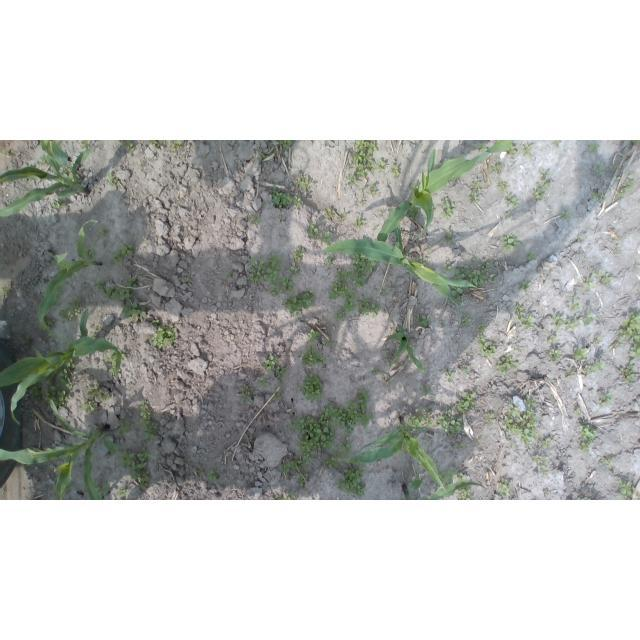Maize: (375, 141, 512, 244), (1, 309, 122, 425), (0, 398, 120, 500), (323, 238, 477, 303), (37, 221, 99, 339), (342, 418, 445, 488), (0, 140, 90, 217), (386, 324, 425, 373), (402, 480, 486, 501)
Weeds: (291, 415, 337, 464), (502, 405, 540, 452), (43, 357, 75, 411), (347, 141, 377, 192), (119, 447, 151, 490), (345, 388, 374, 435), (352, 253, 377, 288), (285, 289, 317, 316), (336, 468, 365, 497), (105, 278, 138, 301), (436, 410, 463, 437), (140, 400, 158, 440), (328, 269, 352, 299), (300, 374, 324, 403), (616, 310, 640, 338), (152, 324, 177, 349), (406, 408, 432, 431), (300, 347, 328, 368), (111, 244, 134, 267), (440, 468, 469, 486), (265, 253, 281, 285), (496, 352, 517, 376), (272, 185, 293, 209), (325, 405, 346, 428), (248, 255, 265, 283), (60, 299, 81, 321), (455, 393, 477, 414), (121, 303, 145, 322), (106, 350, 125, 373), (357, 299, 380, 318), (295, 173, 315, 194), (88, 385, 109, 404), (617, 480, 636, 501), (532, 180, 551, 201), (477, 337, 496, 357), (621, 360, 638, 382), (449, 285, 465, 308), (281, 460, 307, 474), (577, 425, 597, 443), (503, 236, 524, 253), (440, 200, 456, 221), (469, 269, 487, 287), (326, 452, 345, 469), (596, 269, 615, 286), (468, 180, 481, 204), (618, 180, 637, 196), (496, 478, 512, 496), (240, 387, 255, 406), (275, 364, 287, 387), (62, 162, 75, 183), (520, 314, 537, 330), (504, 193, 521, 209), (280, 276, 295, 294), (307, 221, 322, 239), (586, 360, 605, 374), (120, 140, 135, 156), (455, 264, 469, 281), (264, 353, 277, 371), (629, 336, 640, 357), (96, 484, 111, 499), (549, 348, 564, 363), (341, 437, 352, 456), (119, 419, 132, 435), (308, 329, 321, 345), (457, 488, 473, 501), (30, 381, 42, 398), (86, 243, 97, 261), (582, 310, 596, 324), (601, 393, 614, 407), (573, 348, 587, 361), (565, 317, 579, 330), (208, 470, 221, 484), (416, 315, 431, 327), (345, 295, 355, 313), (294, 245, 304, 263), (298, 473, 309, 489), (320, 231, 332, 245), (105, 171, 117, 185), (0, 284, 12, 298), (583, 277, 594, 292), (443, 260, 455, 273), (83, 401, 96, 413), (117, 487, 130, 499), (460, 316, 473, 328), (408, 207, 420, 220), (168, 140, 183, 150), (553, 315, 563, 330), (568, 300, 580, 312), (48, 200, 64, 209), (323, 207, 335, 219), (36, 155, 49, 166), (335, 307, 345, 321), (525, 394, 536, 406), (445, 370, 456, 382), (19, 338, 31, 349), (591, 192, 605, 201), (519, 281, 530, 292), (269, 285, 280, 296), (507, 145, 518, 156), (353, 216, 363, 228), (490, 163, 502, 173), (288, 266, 300, 276), (95, 280, 105, 292), (369, 184, 378, 197), (603, 458, 616, 467), (562, 210, 573, 220), (259, 377, 269, 388), (149, 141, 159, 152), (377, 160, 387, 171), (588, 143, 600, 152), (44, 316, 56, 325), (523, 144, 532, 156), (516, 304, 525, 316), (391, 165, 400, 177), (476, 143, 488, 152), (280, 140, 293, 148), (541, 437, 551, 447), (251, 215, 261, 225), (582, 442, 591, 453), (499, 181, 508, 192), (293, 196, 304, 205), (445, 228, 452, 242), (536, 457, 549, 464), (476, 324, 486, 333), (481, 260, 491, 269), (64, 482, 72, 493), (596, 164, 605, 173), (548, 336, 557, 345), (577, 235, 587, 243), (486, 411, 494, 421), (539, 465, 547, 475), (323, 256, 333, 264), (1, 148, 11, 156), (614, 340, 625, 347), (488, 272, 497, 280), (80, 140, 89, 148), (19, 177, 31, 183), (528, 252, 536, 260), (412, 473, 420, 481), (594, 336, 602, 344), (288, 492, 296, 500), (88, 331, 96, 339), (504, 212, 512, 220), (227, 272, 234, 281), (419, 256, 428, 263), (465, 364, 472, 373), (198, 468, 205, 476), (456, 444, 464, 451), (339, 212, 346, 220), (379, 289, 387, 296), (542, 171, 550, 178), (273, 392, 279, 401), (325, 340, 331, 349), (359, 198, 366, 205), (613, 166, 620, 173), (142, 236, 149, 243), (40, 325, 47, 332), (552, 140, 560, 146), (424, 388, 432, 394), (439, 320, 445, 328), (425, 245, 432, 251), (574, 408, 580, 415), (259, 151, 265, 158), (277, 494, 284, 500), (576, 497, 590, 500), (152, 320, 160, 325), (632, 140, 640, 145), (372, 369, 380, 374), (471, 255, 477, 261), (28, 464, 37, 468), (407, 358, 413, 364), (388, 361, 393, 368), (616, 246, 621, 253), (100, 229, 105, 236), (516, 348, 524, 352), (262, 200, 268, 205), (184, 278, 189, 283), (140, 163, 145, 168), (280, 216, 285, 221), (98, 336, 104, 340), (381, 209, 387, 213), (180, 462, 185, 466), (568, 367, 572, 372), (425, 148, 429, 153), (412, 184, 417, 188), (159, 141, 165, 144), (438, 163, 442, 167), (407, 247, 410, 252), (622, 140, 626, 142)
